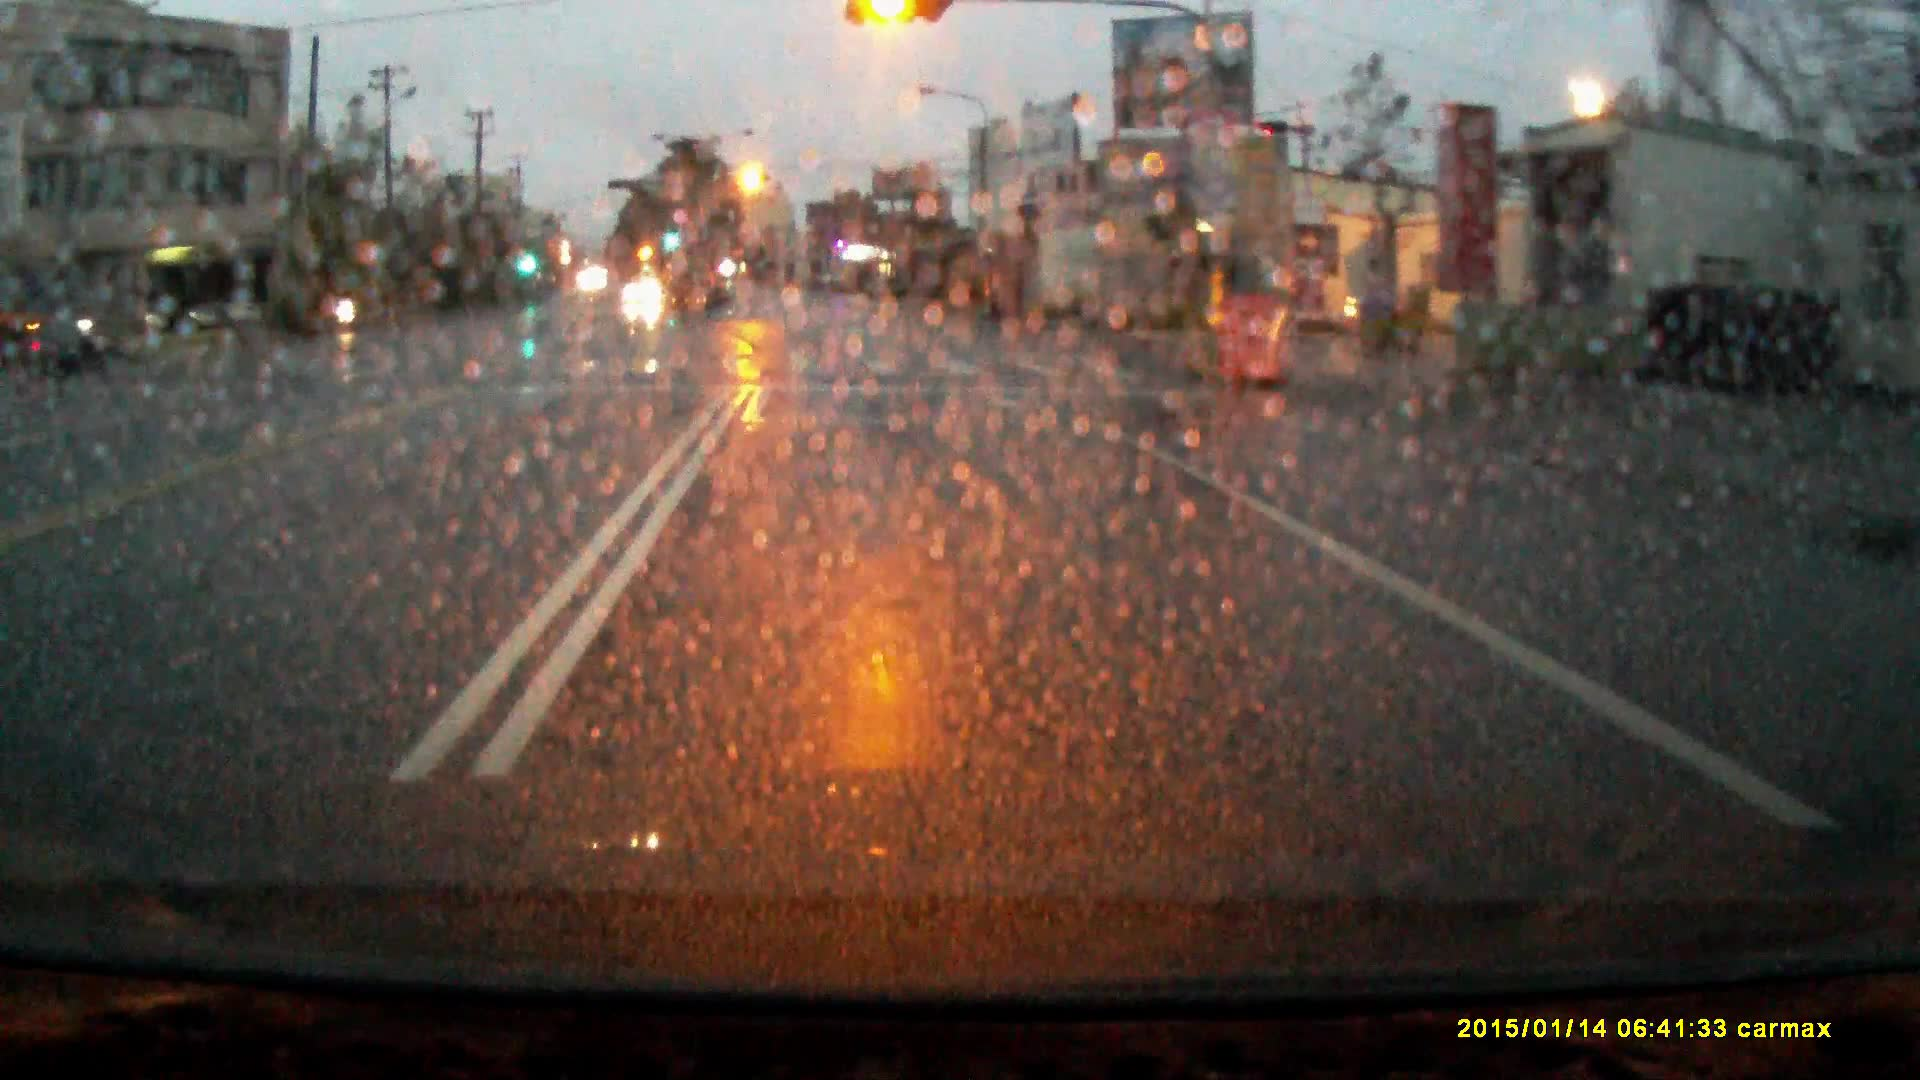rider: (333, 262, 364, 336)
vehicle: (624, 279, 665, 307)
